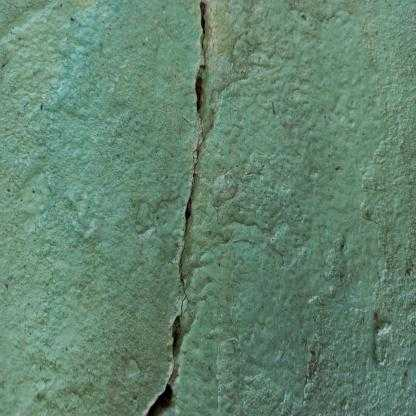crack: (142, 1, 215, 415)
